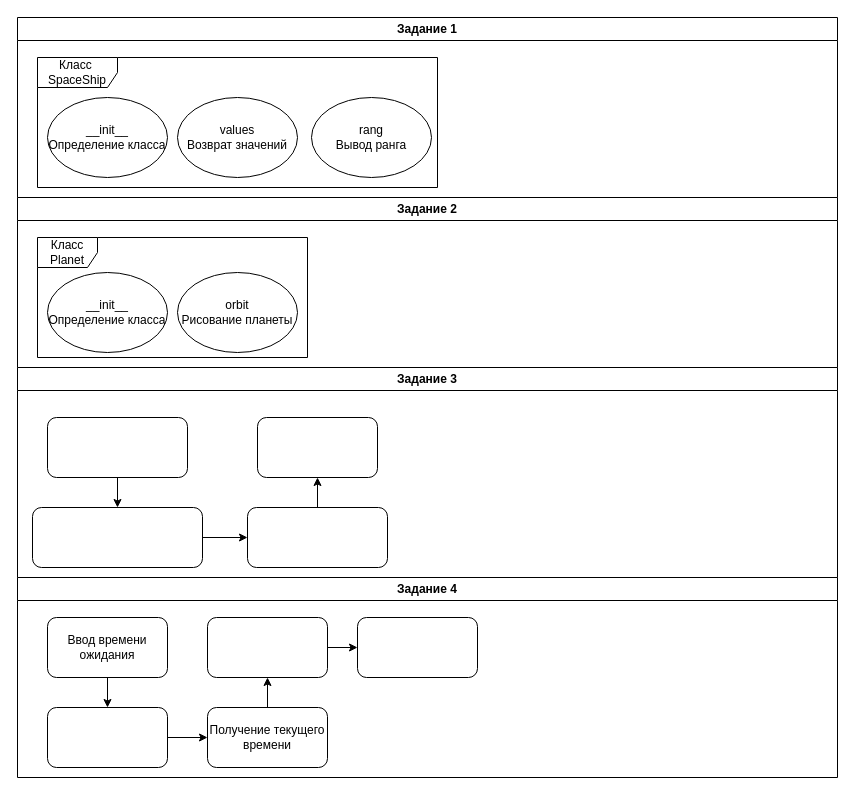
This 855x795 diagram has some shape labels left out. The shapes that lost their labels are listed below. From the top down, each one's centre as x and y in pixels, then its label:
At point 117,447: "Получение списка привычек из json-файла".
At point 317,447: "Со здание отсортированного csv-файла".
At point 117,537: "Фильтрация привычек по проявлению не более 2-х".
At point 317,537: "Фильтрация привычек по вредности".
At point 267,647: "Ожидание нужного временного отрезка".
At point 417,647: "Воспроизведение звука".
At point 107,737: "Преобразование ввода в объект timedelta".
